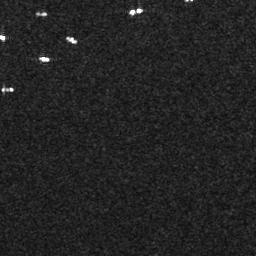ship: (127, 7, 144, 15), (66, 35, 77, 45), (34, 9, 49, 16), (1, 85, 14, 93), (39, 55, 49, 63)
